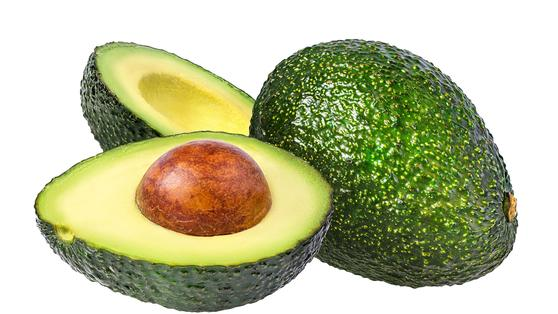avocado: (248, 36, 519, 289)
